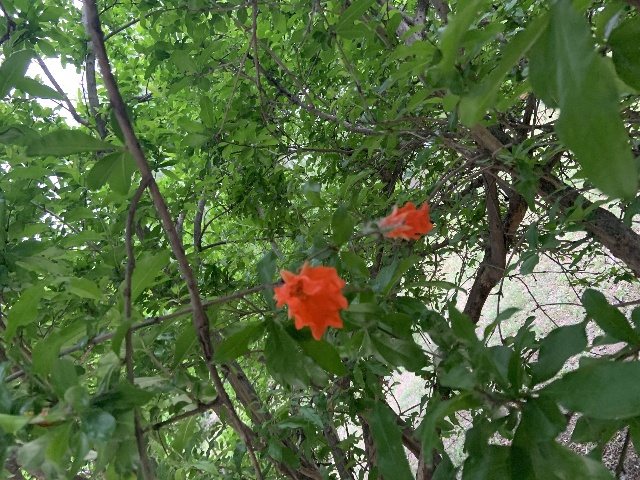flower: (272, 260, 349, 340), (380, 200, 433, 240)
